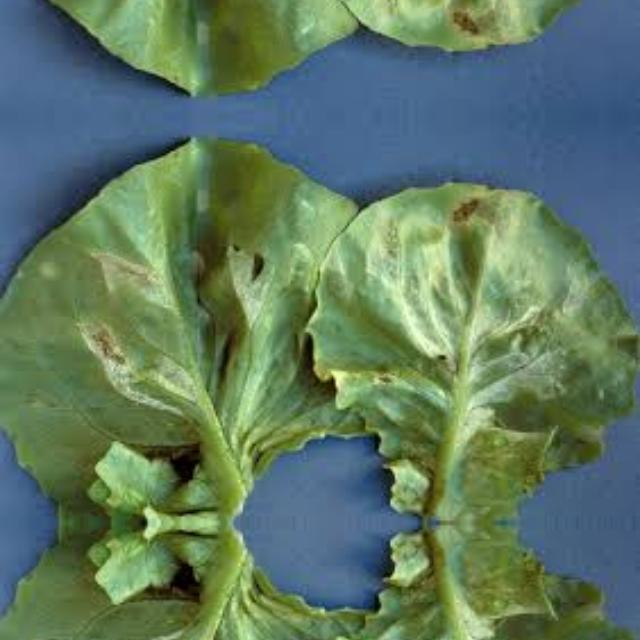Downy_mildew: (21, 172, 350, 496), (341, 174, 603, 520), (341, 523, 603, 640), (20, 548, 349, 640), (20, 0, 349, 59), (341, 0, 603, 58)
